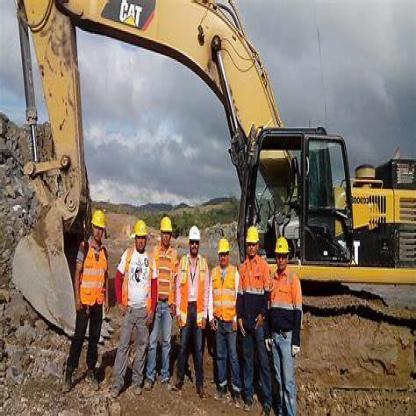person: (60, 193, 110, 413), (113, 181, 151, 400), (268, 217, 309, 414), (182, 211, 212, 403), (240, 224, 266, 400), (211, 221, 237, 396), (154, 196, 176, 394)
